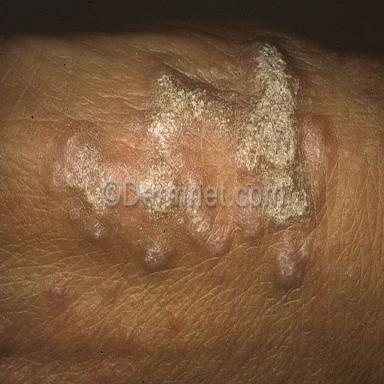lichen: (146, 44, 306, 217), (58, 136, 135, 219), (274, 229, 295, 289), (144, 242, 166, 267)
